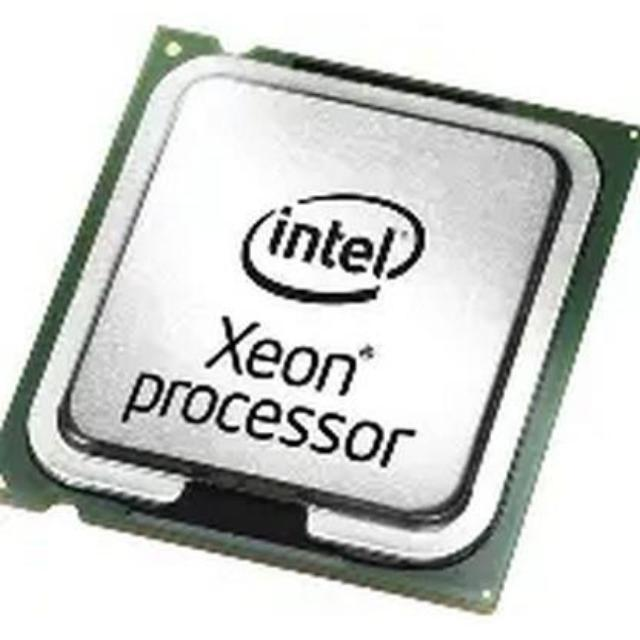CPU: (22, 32, 610, 626)
